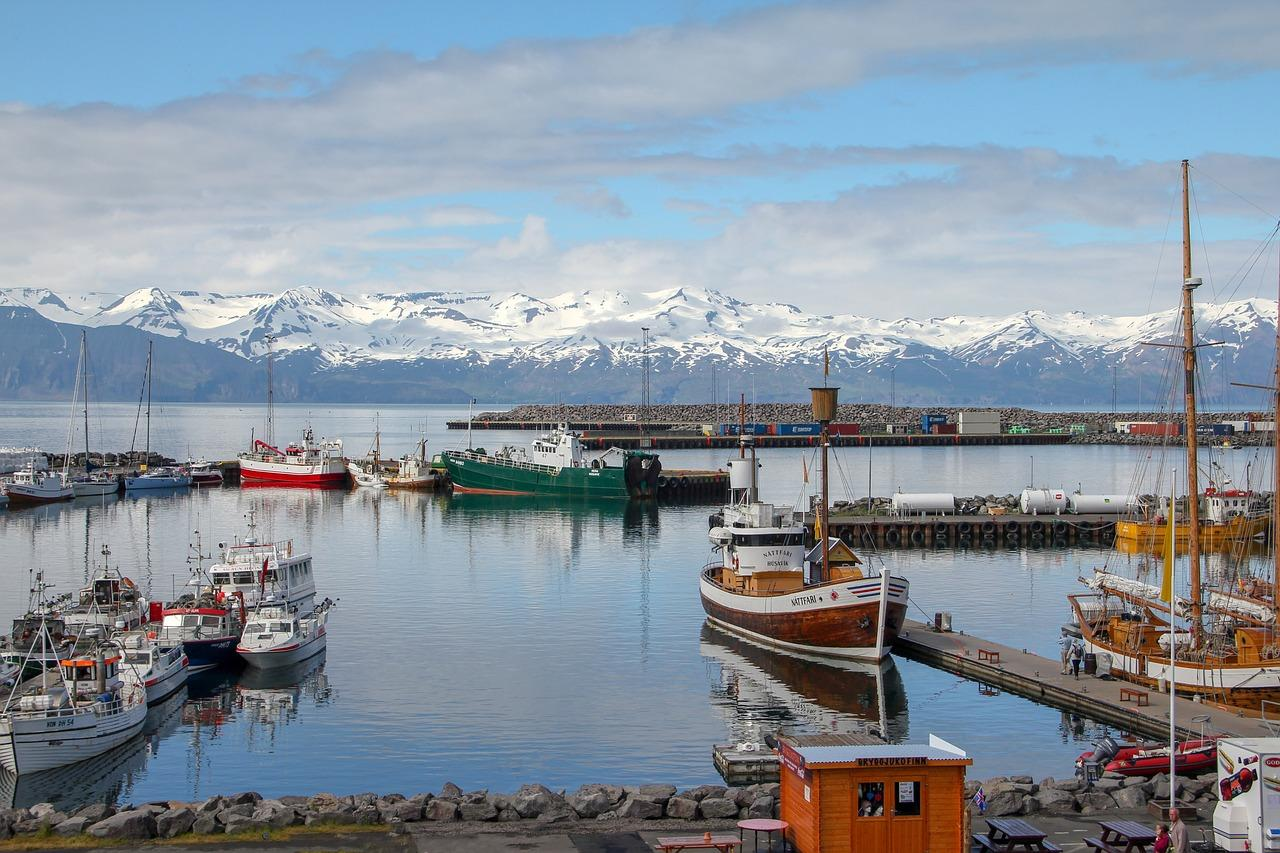Ship: (701, 456, 909, 662), (1, 651, 149, 775), (239, 334, 349, 485), (236, 599, 334, 670), (4, 464, 76, 506)
